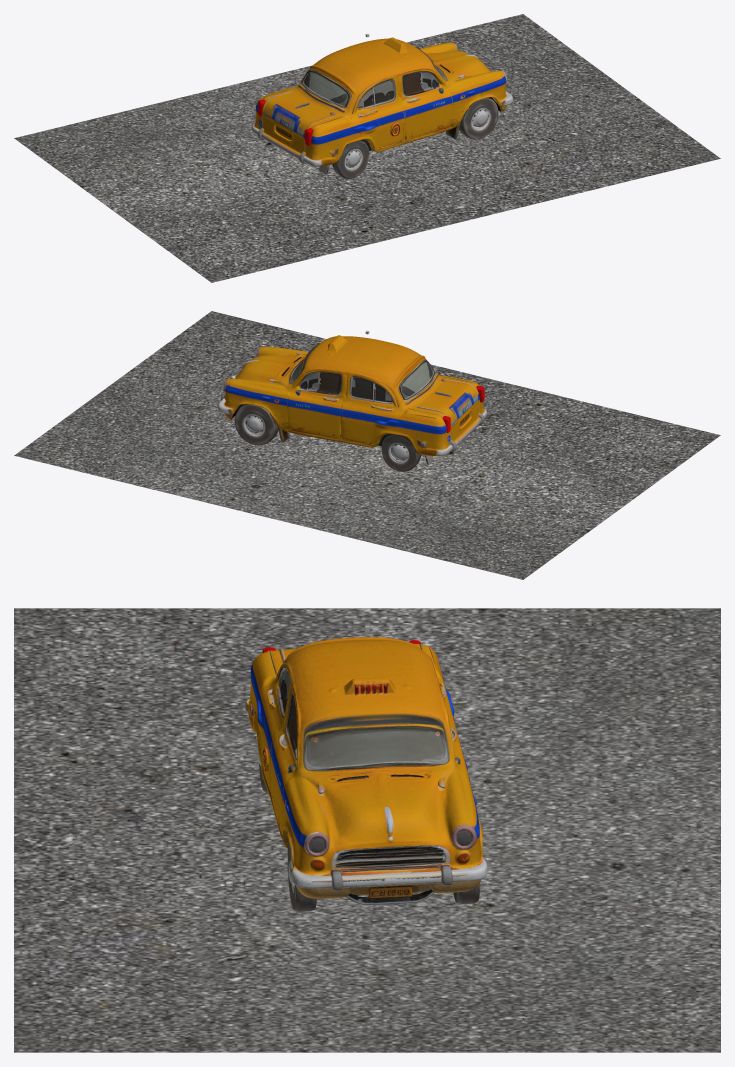
The model's file is taxi.glb.
The picture shows the model from 3 angles, top to bottom: view 1: azimuth 30°, elevation 25°; view 2: azimuth 150°, elevation 25°; view 3: azimuth 270°, elevation 25°; orthographic projection. The views are drawn at different scales.
Visible parts, largest first — view 1: pPlane1, node_c6d54d6c1; view 2: pPlane1, node_c6d54d6c1; view 3: pPlane1, node_c6d54d6c1.
Part boxes in pixels (bbox=[...]): pPlane1: bbox=[14, 14, 720, 282]; node_c6d54d6c1: bbox=[252, 37, 513, 178]; pPlane1: bbox=[14, 311, 720, 579]; node_c6d54d6c1: bbox=[218, 335, 487, 471]; pPlane1: bbox=[14, 608, 720, 1052]; node_c6d54d6c1: bbox=[245, 637, 487, 911].
Size of the model in its own units: 2.28 by 0.4877 by 1.53.
Materials: 13 (3 with a texture image).
